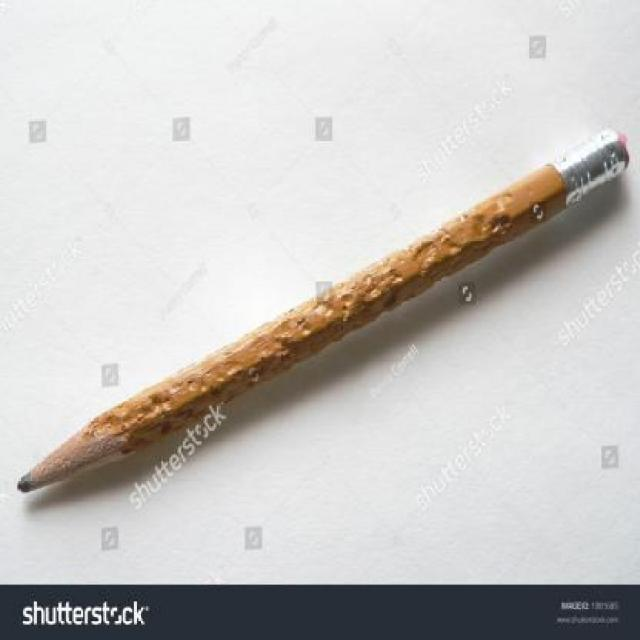pencil: (12, 398, 130, 512)
